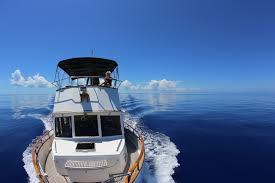Ship: (26, 52, 149, 183)
